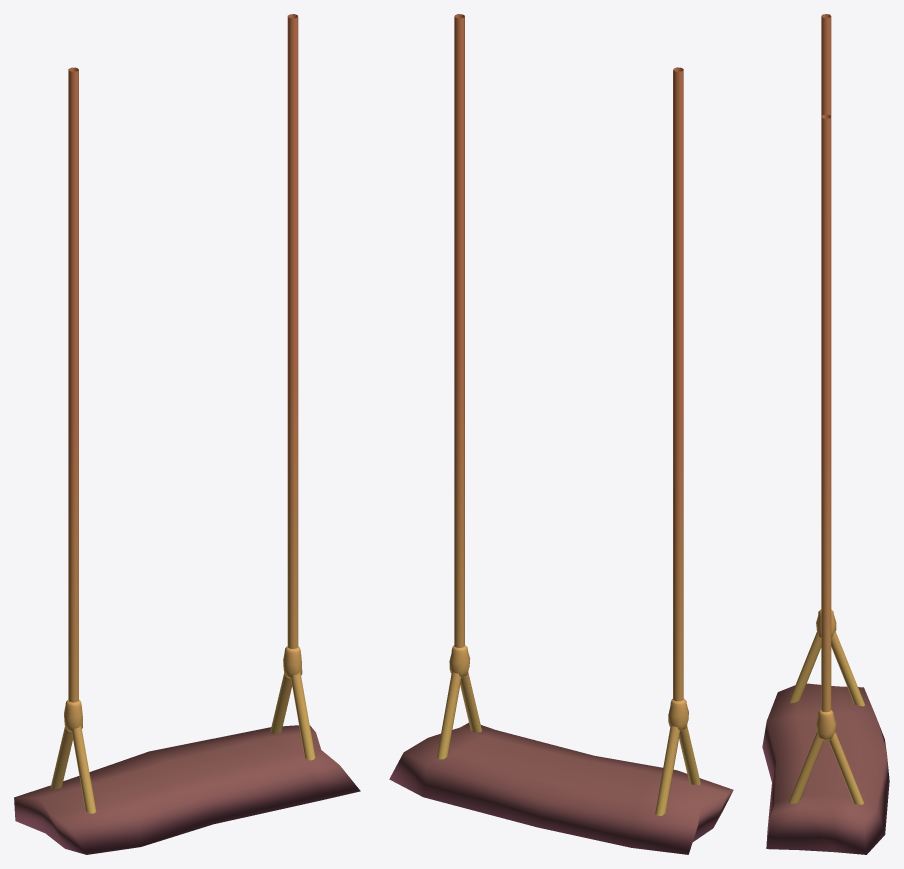
The model's file is SwingTextured.fbx.
3 renders of one model, left to right at view 1: azimuth 30°, elevation 25°; view 2: azimuth 150°, elevation 25°; view 3: azimuth 270°, elevation 25°, orthographic. The views are drawn at different scales.
Visible parts, largest first — view 1: Wood, Rope, Rope2; view 2: Wood, Rope2, Rope; view 3: Wood, Rope, Rope2.
Part boxes in pixels (x1,y1,x2,y2): Wood: [14, 725, 360, 854]; Rope: [270, 14, 315, 760]; Rope2: [50, 67, 96, 813]; Wood: [389, 722, 733, 854]; Rope2: [655, 67, 700, 815]; Rope: [437, 14, 481, 759]; Wood: [762, 683, 889, 854]; Rope: [788, 114, 863, 804]; Rope2: [788, 14, 864, 706].
Bounding box in the file's own units: 9.39 × 22.26 × 3.57.
2 materials, 2 textured.
